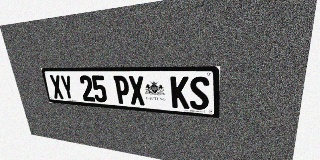2: (79, 75, 95, 102)
5: (91, 75, 108, 103)
K: (170, 76, 189, 109)
P: (113, 76, 131, 104)
S: (189, 76, 209, 111)
X: (128, 76, 146, 106), (49, 75, 64, 99)
Y: (59, 75, 75, 100)
